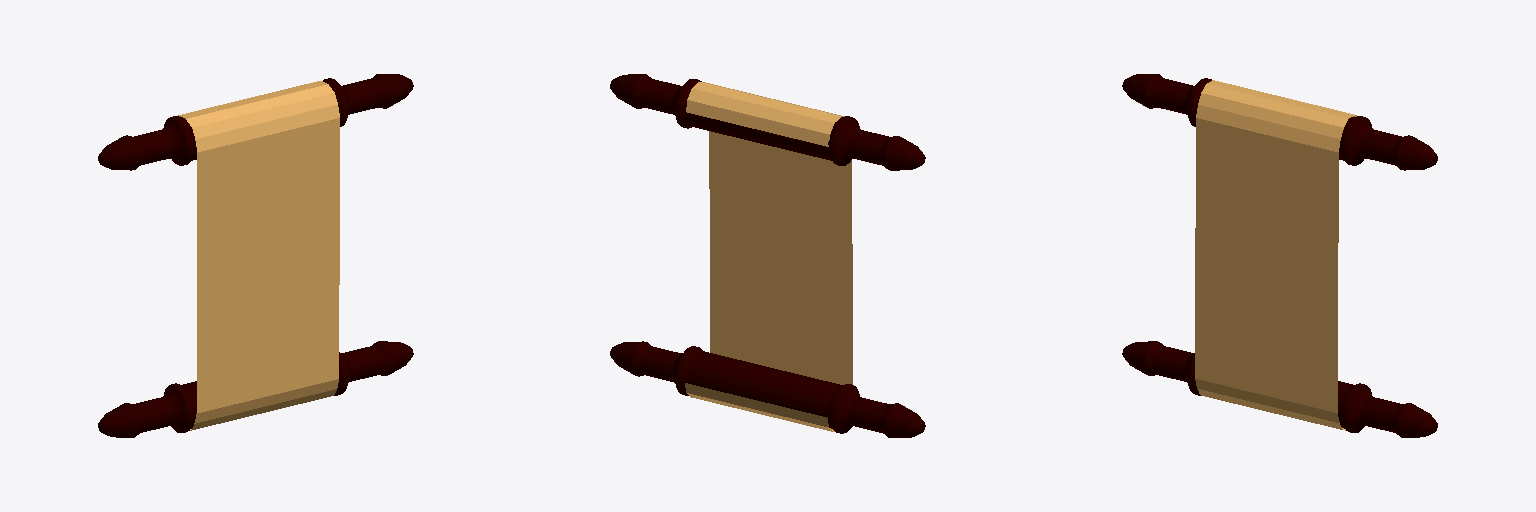
The model's file is Scroll.obj.
The picture shows the model from 3 angles: view 1: azimuth 30°, elevation 25°; view 2: azimuth 150°, elevation 25°; view 3: azimuth 330°, elevation 25°; orthographic projection.
Visible parts, largest first — view 1: Cylinder.004_Cylinder.003; view 2: Cylinder.004_Cylinder.003; view 3: Cylinder.004_Cylinder.003.
Part boxes in pixels (bbox=[...]): Cylinder.004_Cylinder.003: bbox=[98, 74, 413, 437]; Cylinder.004_Cylinder.003: bbox=[610, 74, 925, 437]; Cylinder.004_Cylinder.003: bbox=[1122, 74, 1437, 437].
Size of the model in its own units: 15.95 by 15.41 by 2.29.